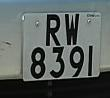1: (85, 44, 97, 79)
3: (48, 46, 68, 79)
8: (28, 45, 49, 81)
9: (66, 46, 87, 79)
R: (43, 11, 63, 50)
W: (63, 11, 81, 48)
